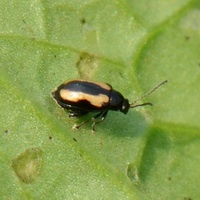insect: (52, 80, 166, 130)
